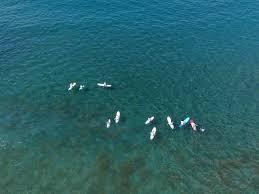swimmer: (191, 120, 205, 134), (178, 115, 191, 128), (166, 115, 176, 130), (143, 115, 155, 126), (96, 82, 114, 89), (149, 126, 157, 141), (66, 81, 77, 91), (114, 109, 121, 124), (105, 118, 112, 128), (79, 83, 87, 90), (194, 125, 201, 131), (180, 118, 185, 126)
